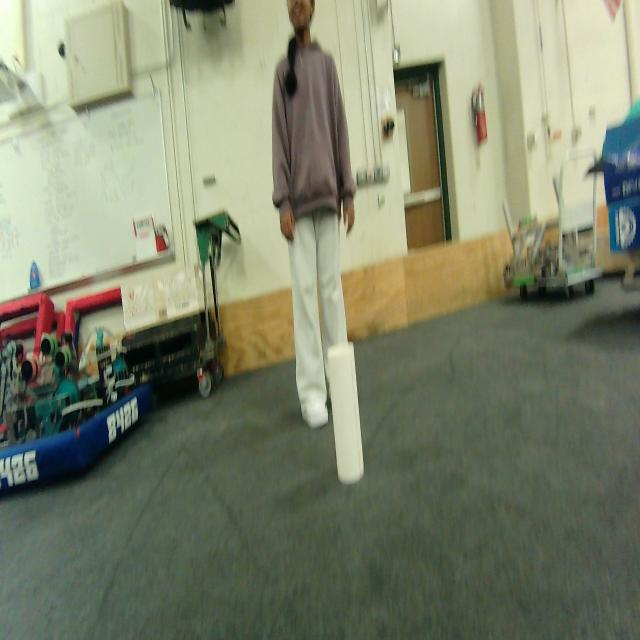coral: (320, 334, 380, 498)
